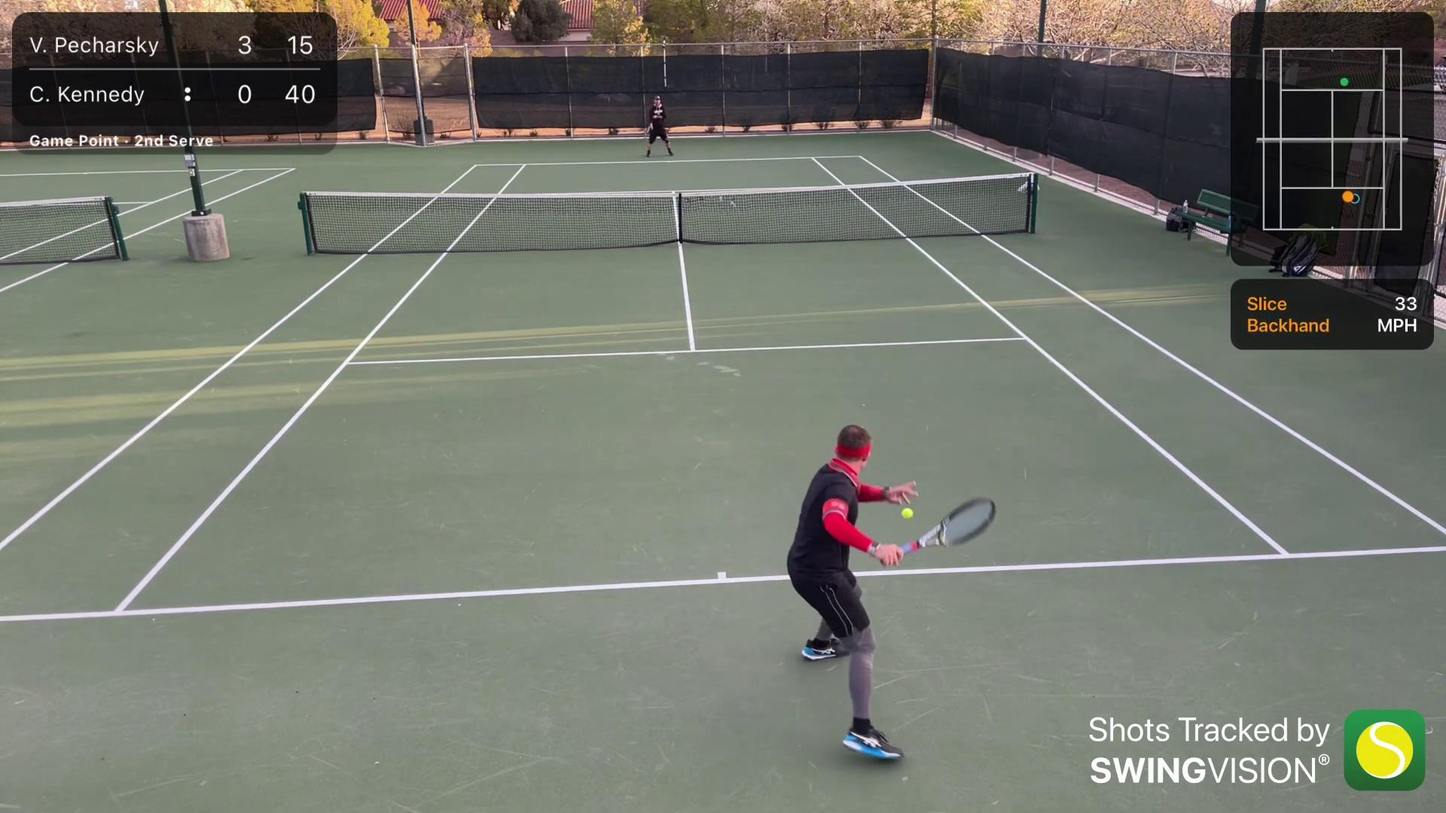ball: (898, 506, 917, 521)
